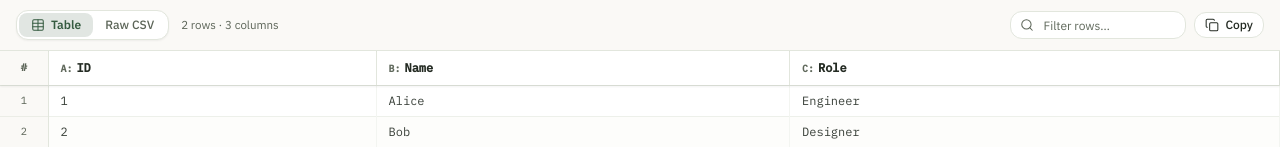
Test: Document Viewers for all artifact types › TableViewer › parses CSV data into interactive rows and columns
Later steps or results of the test are not shown.
Expected: the column heading "ID" is shown, [76,60,91,75]
Expected: the text "Alice" is shown, [376,86,790,116]
Note: Filter rows
In the field with placeholder "Filter rows…": (1098, 25) [1010,11,1186,39], type "Alice"
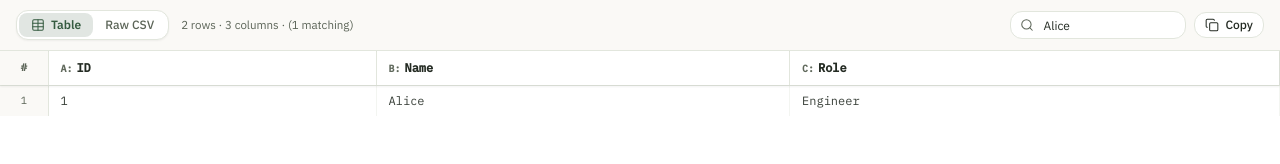
Expected: the text "Alice" is shown, [376,86,790,116]
Expected: the text "Bob" is gone
